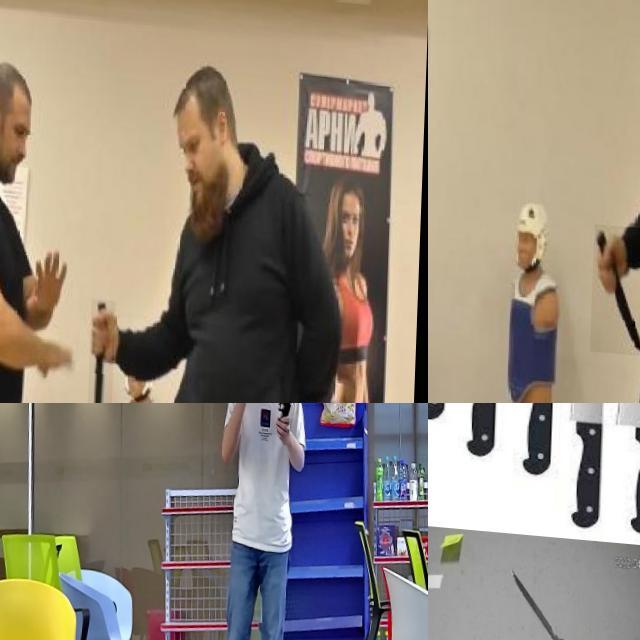-: (509, 558, 595, 640), (594, 220, 640, 351), (574, 403, 625, 517), (519, 403, 567, 502), (470, 403, 512, 488), (90, 293, 119, 403), (428, 576, 485, 630), (428, 403, 464, 472), (428, 403, 491, 433)
gun-knife-thesis - v11 Yolov5 augmented: (269, 403, 300, 434)
